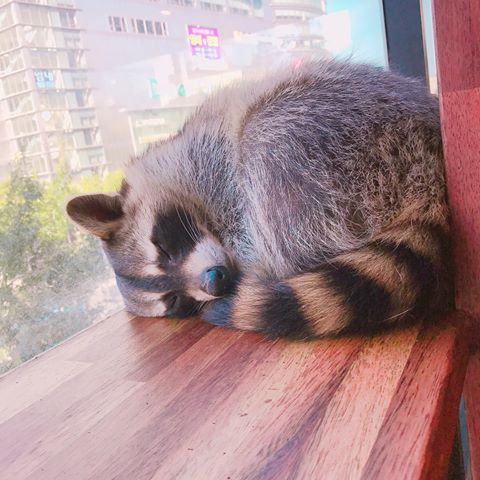raccoon: (78, 50, 472, 346)
